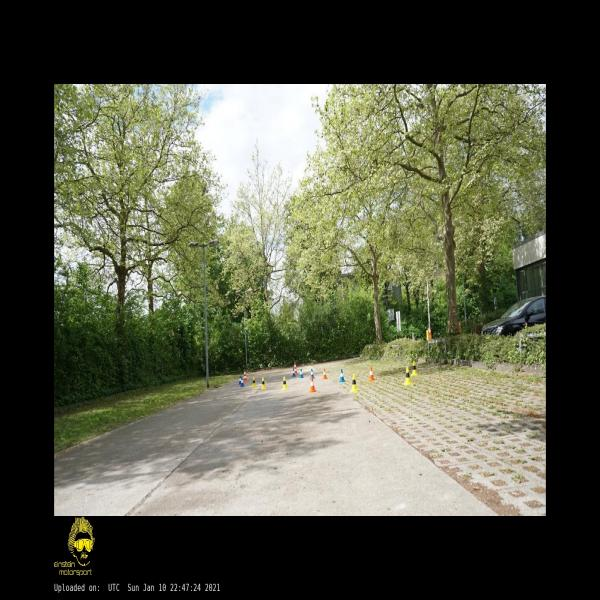blue_cone: (340, 369, 344, 382), (299, 369, 304, 378), (292, 368, 296, 377), (310, 369, 314, 378), (240, 378, 244, 386), (239, 376, 241, 385)
large_orange_cone: (243, 369, 247, 382), (294, 362, 297, 374)
orange_cone: (310, 377, 316, 392), (368, 367, 374, 380), (322, 369, 327, 378)
yellow_cone: (404, 367, 412, 385), (350, 375, 358, 391), (411, 362, 417, 375), (282, 377, 287, 389), (261, 378, 266, 388), (252, 377, 256, 387)
